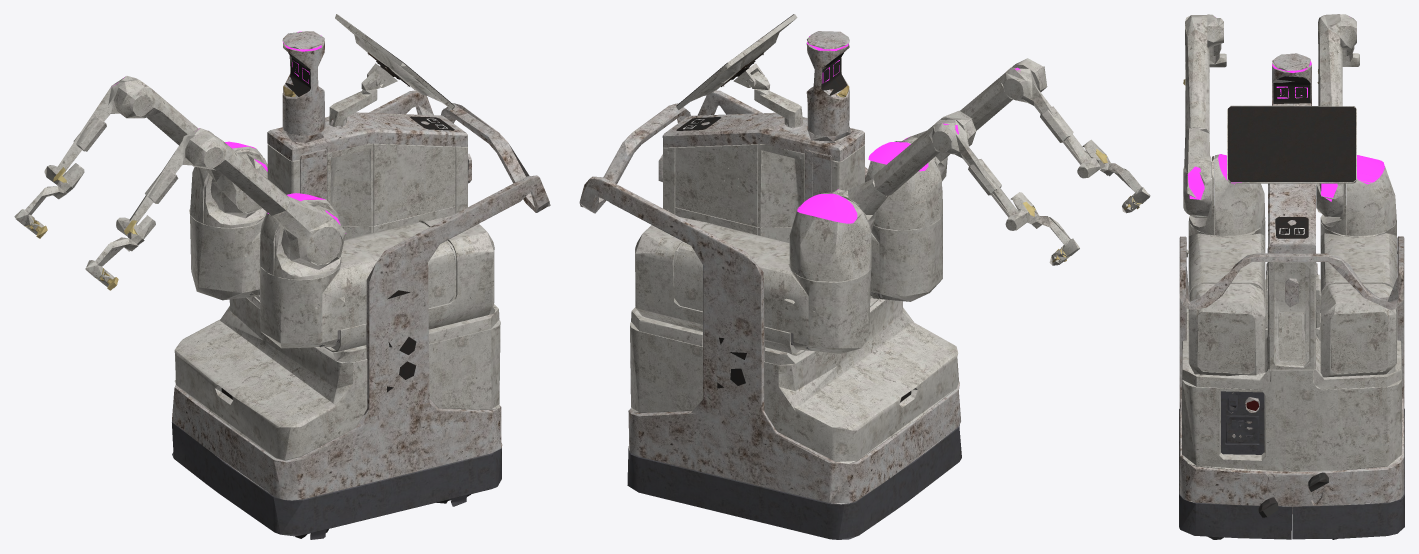
Rendered from craft_r03_dioscuri_rig.glb.
3 renders of one model, left to right at view 1: azimuth 30°, elevation 25°; view 2: azimuth 150°, elevation 25°; view 3: azimuth 270°, elevation 25°, orthographic. The views are drawn at different scales.
Visible parts, largest first — view 1: craft_r03_dioscuri_rig; view 2: craft_r03_dioscuri_rig; view 3: craft_r03_dioscuri_rig.
Part boxes in pixels (x1,y1,x2,y2): craft_r03_dioscuri_rig: (14,14,550,539); craft_r03_dioscuri_rig: (579,14,1150,539); craft_r03_dioscuri_rig: (1179,14,1404,539).
Bounding box in the file's own units: 1.48 × 1.41 × 0.676.
12 materials, 11 textured.
